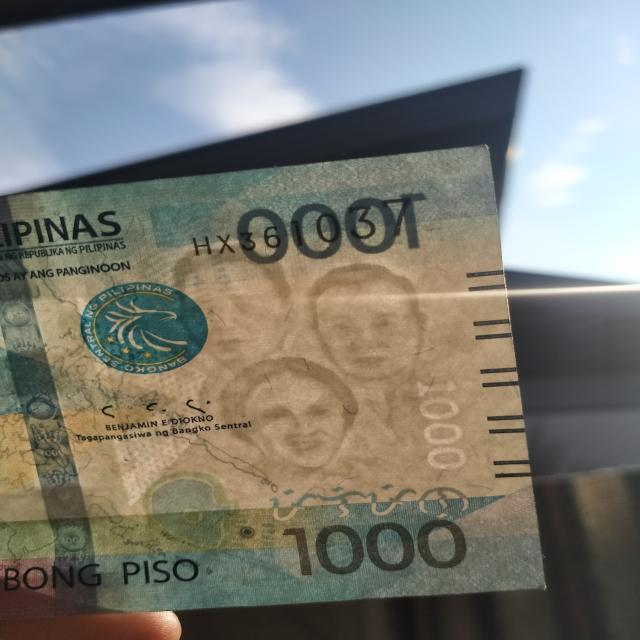see_through_mark: (262, 482, 473, 520)
value_watermark: (411, 372, 474, 475)
watermark: (167, 247, 427, 477)
